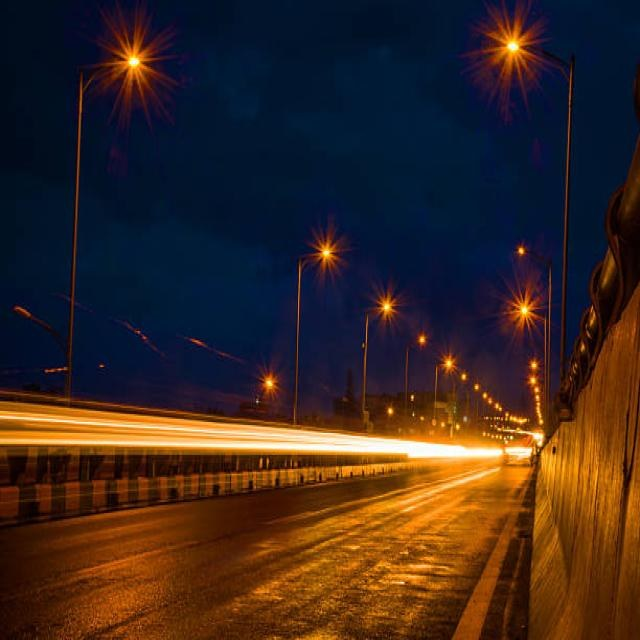acesa: (111, 34, 160, 95), (487, 17, 536, 78), (505, 282, 542, 349), (314, 226, 344, 275)
